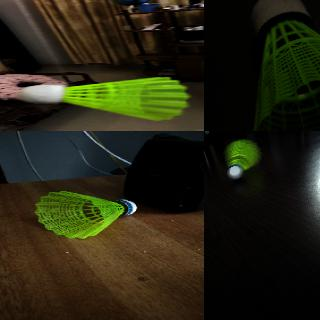shuttlecock: (251, 0, 319, 130), (17, 76, 189, 121), (35, 191, 137, 238), (223, 140, 261, 180)
